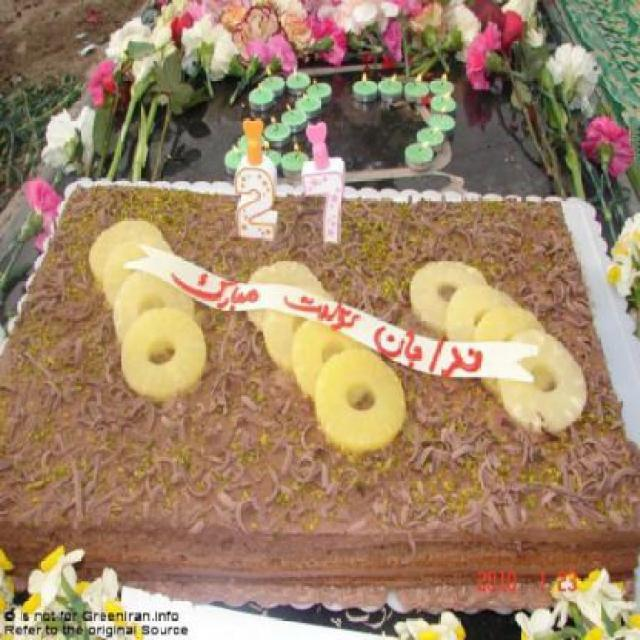Pineapple: (496, 329, 592, 431), (314, 353, 406, 456), (292, 311, 374, 407), (122, 307, 210, 396), (110, 268, 199, 342), (88, 216, 172, 287), (406, 258, 488, 330), (246, 258, 322, 334), (474, 310, 546, 388), (442, 280, 518, 348), (100, 239, 148, 307), (262, 304, 310, 366)
